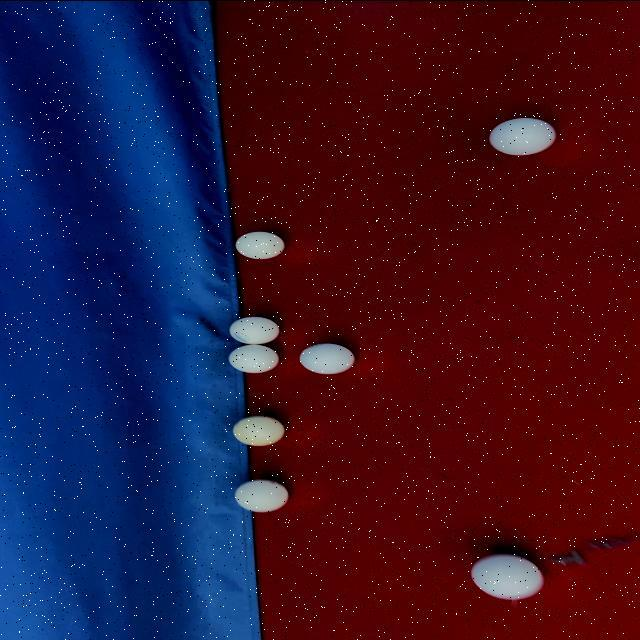ping-pong-ball: (487, 116, 559, 156), (296, 340, 358, 375), (229, 412, 289, 447), (232, 477, 290, 513), (227, 343, 281, 375), (235, 228, 288, 260), (228, 314, 284, 344)
